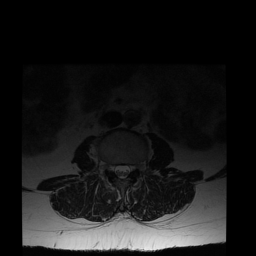CCS_normal: (118, 158, 124, 184)
LFS_normal: (130, 158, 137, 176)
LLS_normal: (124, 158, 130, 180)
RFS_normal: (107, 156, 112, 177)
RLS_normal: (112, 158, 118, 180)
